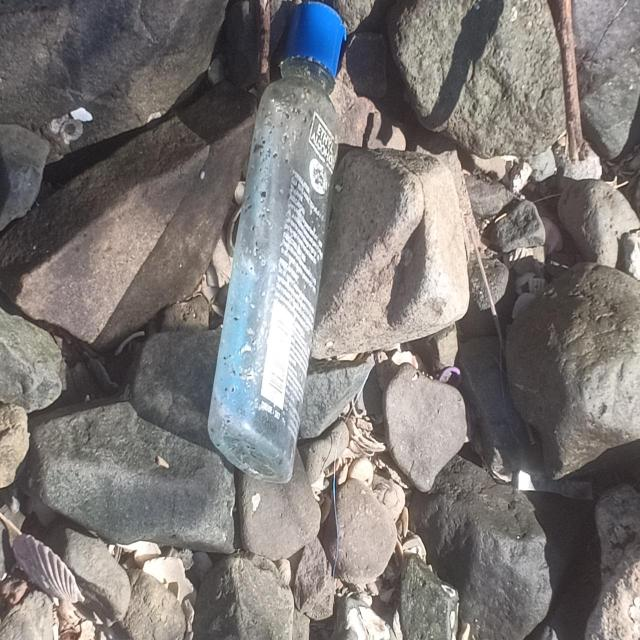plastic_waste: (208, 1, 345, 485)
